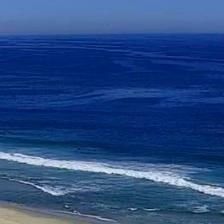surfer: (216, 163, 224, 166), (76, 147, 80, 150)
